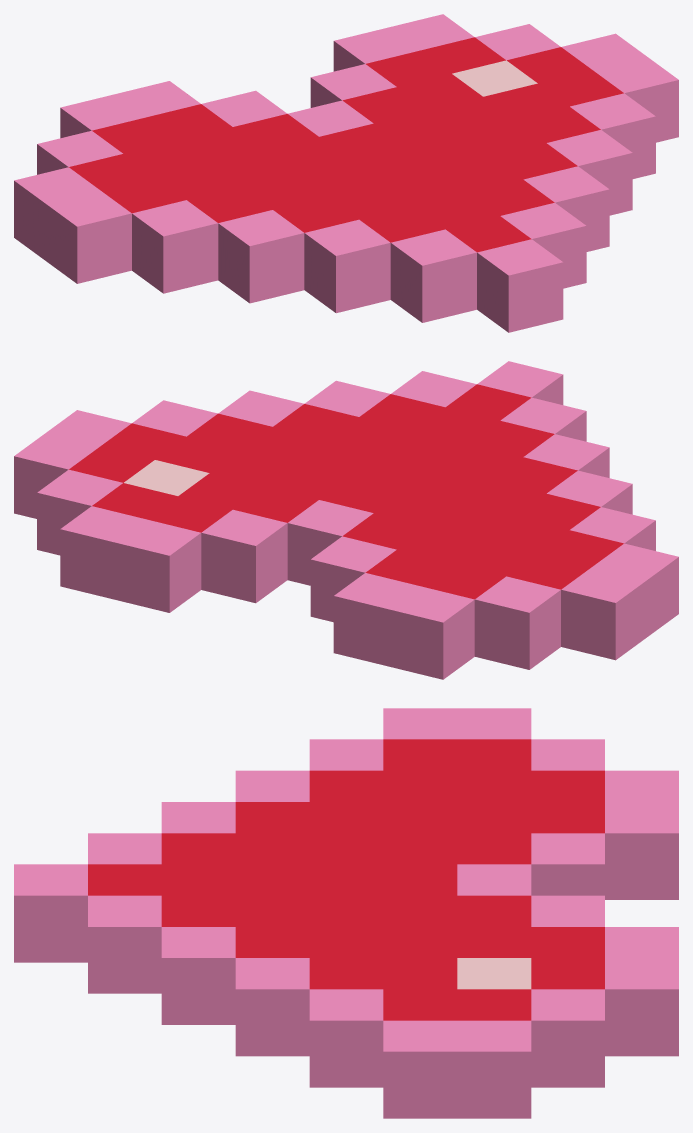
File: heart.obj
3 renders of one model, top to bottom at view 1: azimuth 30°, elevation 25°; view 2: azimuth 150°, elevation 25°; view 3: azimuth 270°, elevation 25°, orthographic. The views are drawn at different scales.
Visible parts, largest first — view 1: heart; view 2: heart; view 3: heart.
Part boxes in pixels (x1=…): heart: x1=14, y1=14, x2=678, y2=332; heart: x1=14, y1=361, x2=678, y2=679; heart: x1=14, y1=708, x2=678, y2=1118.
Bounding box in the file's own units: 10.56 × 0.96 × 8.64.
